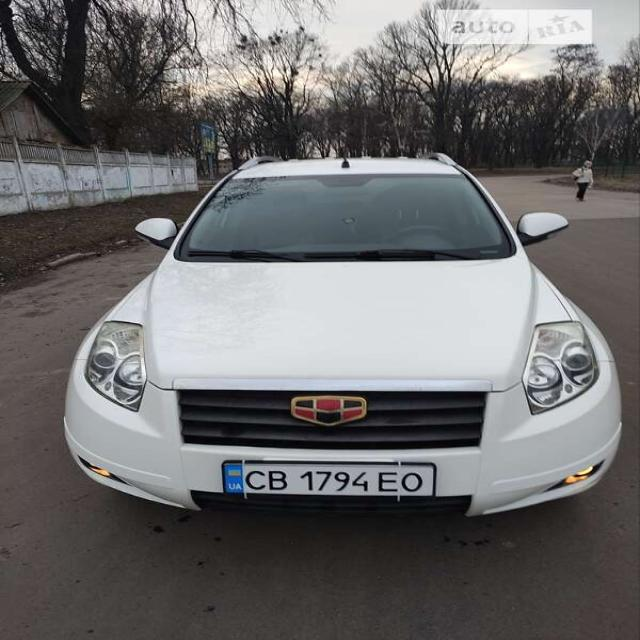plate: (217, 453, 436, 500)
